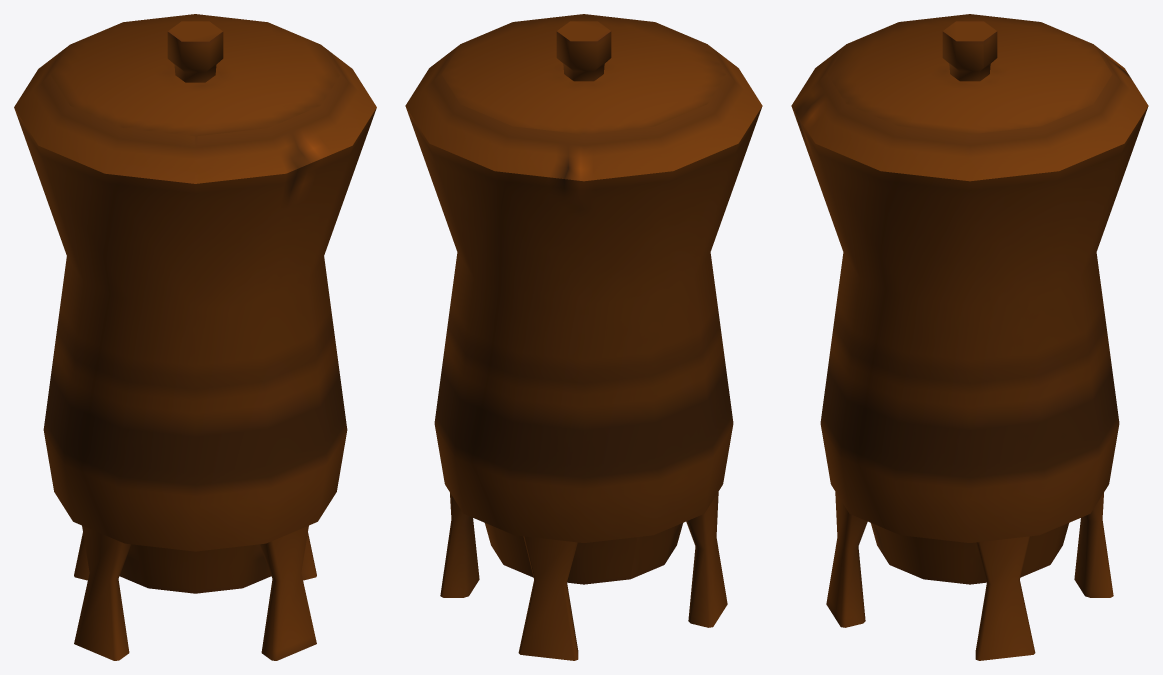
The model's file is Pot5.FBX.
3 renders of one model, left to right at view 1: azimuth 30°, elevation 25°; view 2: azimuth 150°, elevation 25°; view 3: azimuth 270°, elevation 25°, orthographic.
Visible parts, largest first — view 1: Pot5; view 2: Pot5; view 3: Pot5.
Part boxes in pixels (x1,y1,x2,y2): Pot5: [14, 14, 376, 660]; Pot5: [405, 14, 762, 660]; Pot5: [791, 14, 1148, 660].
Bounding box in the file's own units: 0.6681 × 1.17 × 0.6681.
